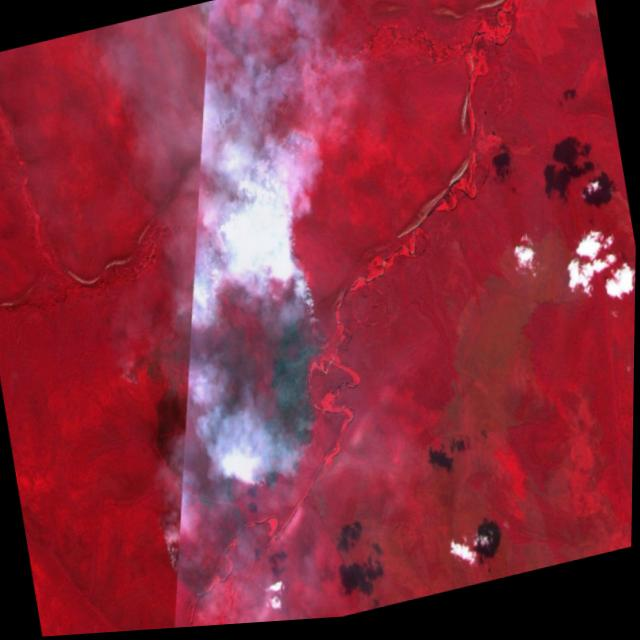fire: (96, 172, 375, 610)
